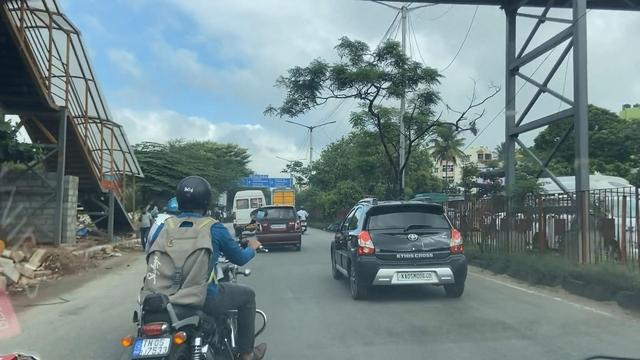LMV: (335, 200, 465, 297), (257, 207, 302, 252)
